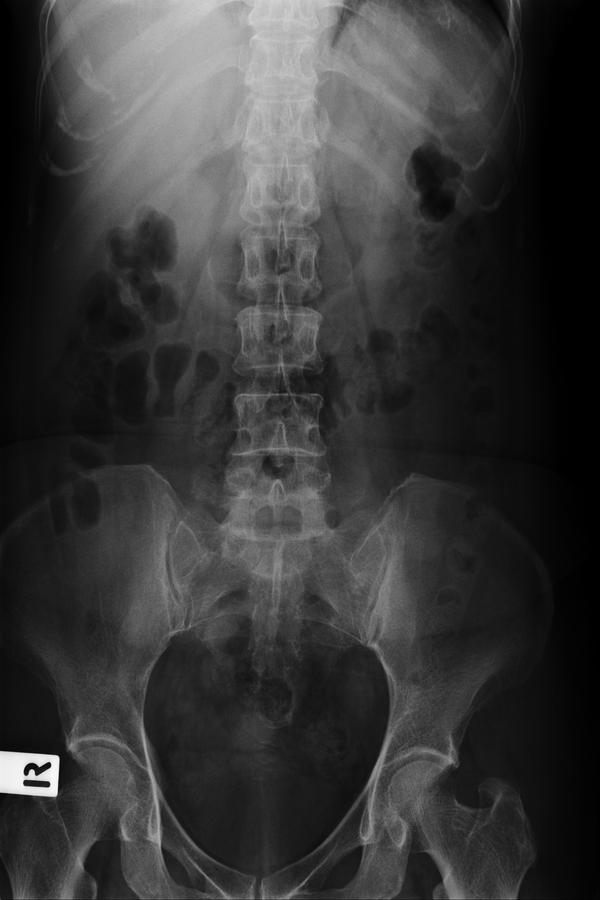not lumbar scoliosis: (219, 168, 338, 561)
